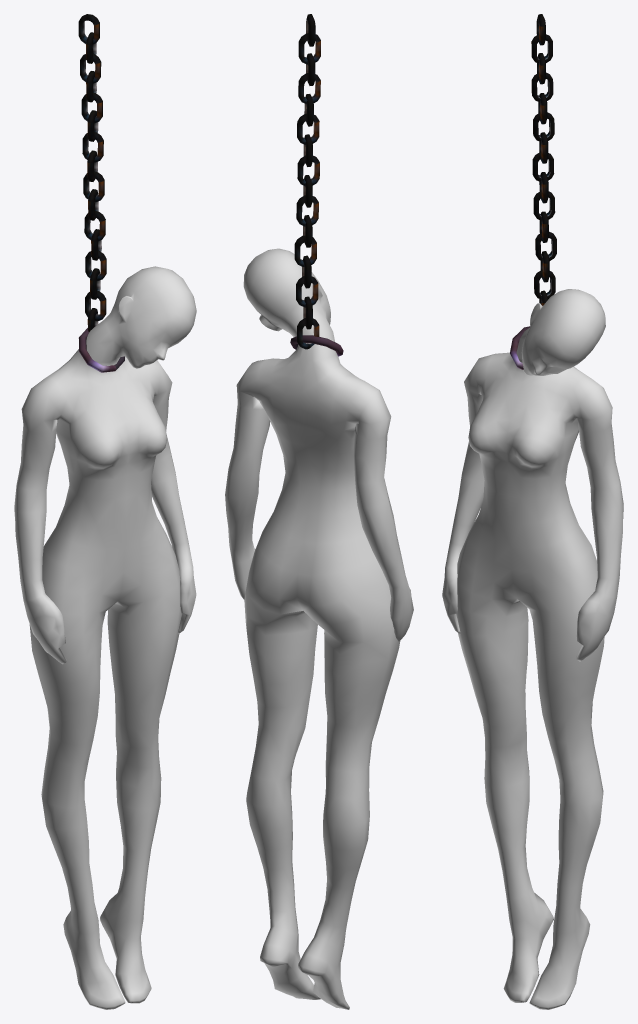
Rendered from deadAndroid 1.fbx.
3 views of the same model, side by side, from view 1: azimuth 30°, elevation 25°; view 2: azimuth 150°, elevation 25°; view 3: azimuth 330°, elevation 25° (orthographic). The views are drawn at different scales.
Parts seen in each view (by area): view 1: Body; view 2: Body; view 3: Body.
Boxes of the visible parts, x1=… form: Body: x1=14, y1=14, x2=196, y2=1009; Body: x1=225, y1=14, x2=413, y2=1009; Body: x1=442, y1=14, x2=623, y2=1009.
Size of the model in its own units: 37.74 by 212 by 22.6.
